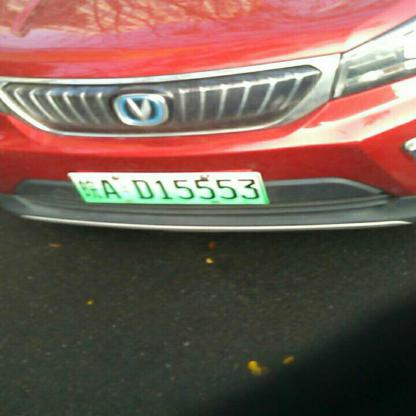lp: (68, 172, 268, 204)
